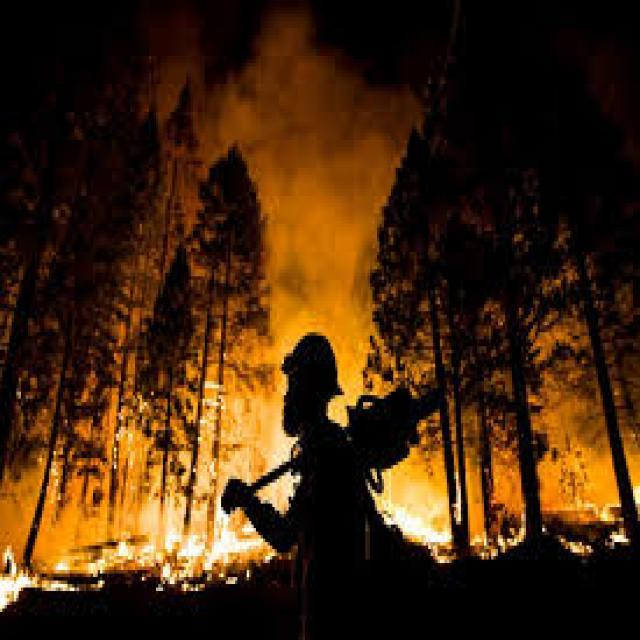Fire: (150, 468, 237, 580)
Smoke: (256, 61, 384, 326)
